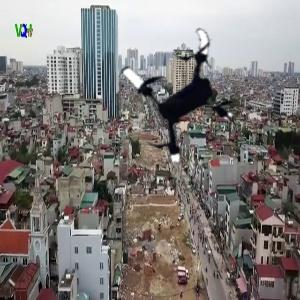drone: (107, 22, 248, 163)
